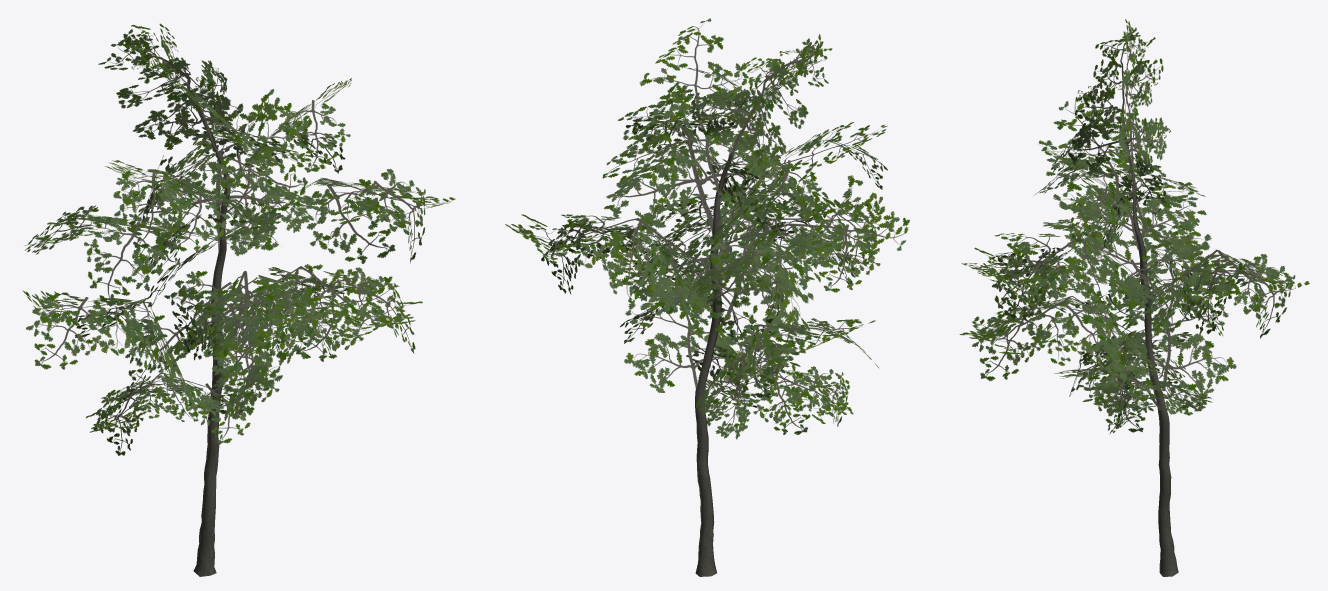
File: oak_small_3.glb
3 renders of one model, left to right at view 1: azimuth 30°, elevation 25°; view 2: azimuth 150°, elevation 25°; view 3: azimuth 270°, elevation 25°, orthographic. The views are drawn at different scales.
Visible parts, largest first — view 1: Small_oak_tree__003_LOD1_Cluster_Mat_0, Small_oak_tree__003_LOD1_Bark_Mat_0; view 2: Small_oak_tree__003_LOD1_Cluster_Mat_0, Small_oak_tree__003_LOD1_Bark_Mat_0; view 3: Small_oak_tree__003_LOD1_Cluster_Mat_0, Small_oak_tree__003_LOD1_Bark_Mat_0.
Boxes of the visible parts, box(x1,y1,x2,y2) form: Small_oak_tree__003_LOD1_Cluster_Mat_0: box(22, 23, 455, 455); Small_oak_tree__003_LOD1_Bark_Mat_0: box(193, 148, 230, 576); Small_oak_tree__003_LOD1_Cluster_Mat_0: box(505, 18, 909, 439); Small_oak_tree__003_LOD1_Bark_Mat_0: box(695, 153, 733, 576); Small_oak_tree__003_LOD1_Cluster_Mat_0: box(959, 19, 1309, 433); Small_oak_tree__003_LOD1_Bark_Mat_0: box(1132, 184, 1178, 576).
Bounding box in the file's own units: 3.59 × 5.36 × 3.46.
Materials: 2 (2 with a texture image).
